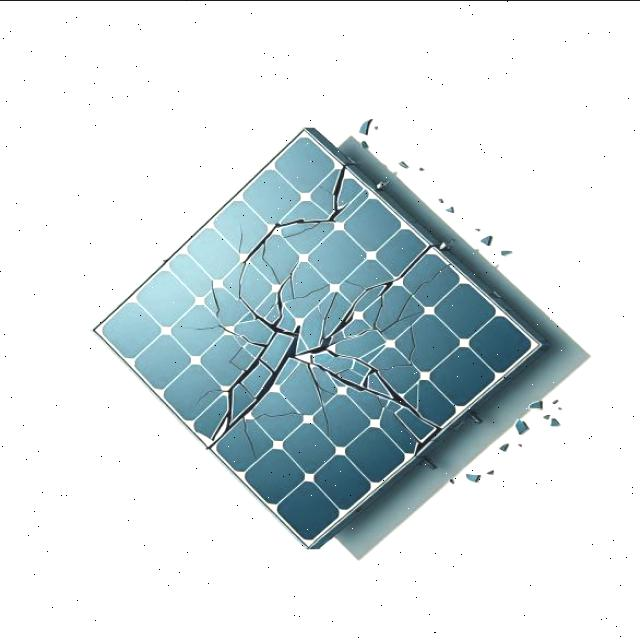Anomaly Solar Panel: (93, 114, 537, 558)
Structural Damage: (213, 162, 396, 336), (300, 225, 466, 368), (168, 297, 300, 441), (305, 330, 448, 449), (370, 322, 431, 381), (303, 356, 345, 436), (302, 284, 337, 344), (238, 414, 257, 461), (206, 275, 222, 317), (252, 407, 309, 418), (234, 222, 245, 253)
